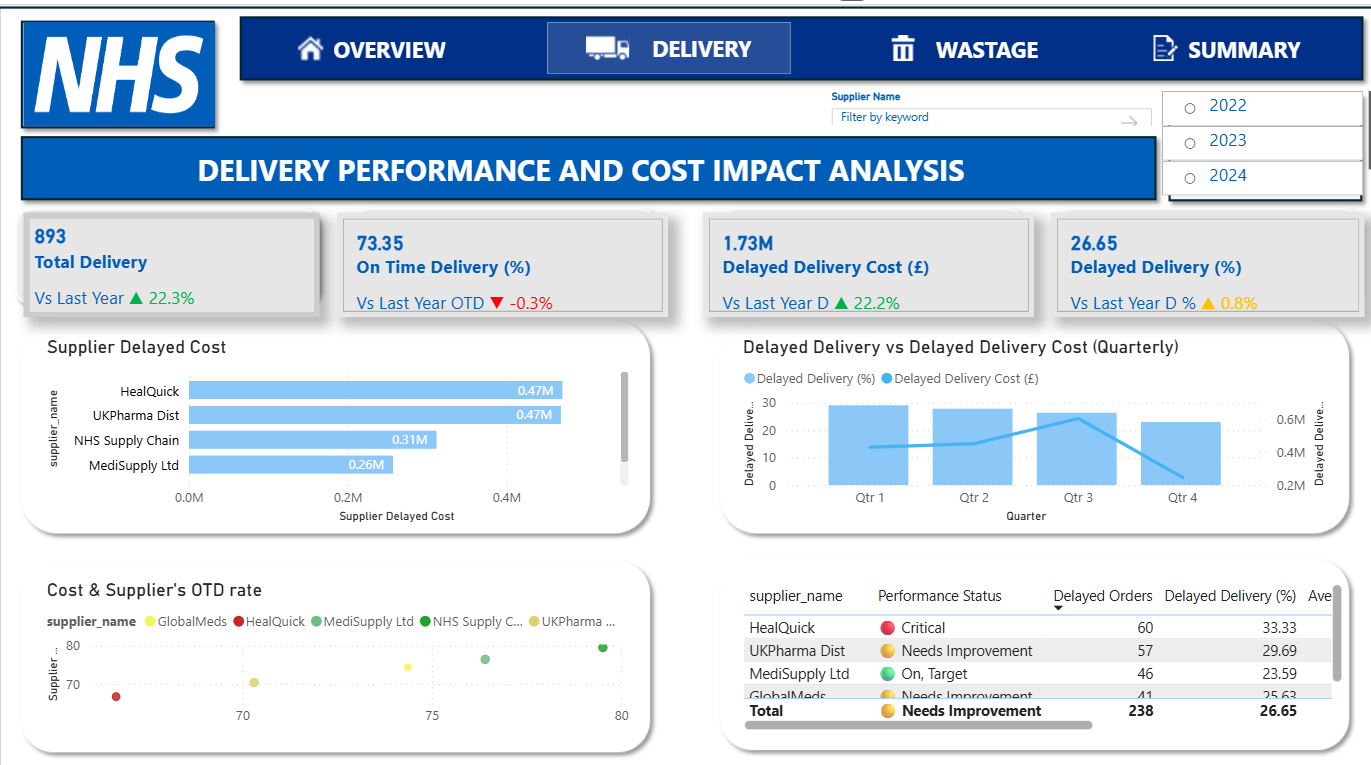

Layout of this report page (visuals, bound fields, positions):
{"tool":"powerbi","page":{"name":"Page 2","canvas":[1280,720],"ordinal":1},"visuals":[{"type":"clusteredBarChart","title":"Supplier Delayed Cost","fields":{"Category":["nhs_pharma_clean.supplier_name"],"Y":["nhs_pharma_clean.Supplier Delayed Cost"]},"box":[48,304,544,176],"z":0},{"type":"lineClusteredColumnComboChart","title":"Delayed Delivery vs Delayed Delivery Cost (Quarterly)","fields":{"Category":["nhs_pharma_clean.delivery_date.Variation.Date Hierarchy.Quarter"],"Y":["nhs_pharma_clean.Delayed Delivery %"],"Y2":["nhs_pharma_clean.Delayed Delivery Cost"]},"box":[688,304,544,176],"z":1000},{"type":"scatterChart","title":"Cost & Supplier''s OTD rate","fields":{"Y":["nhs_pharma_clean.Supplier OTD Rate"],"Size":["nhs_pharma_clean.Supplier Total Cost"],"Category":["nhs_pharma_clean.supplier_name"],"Series":["nhs_pharma_clean.supplier_name"],"X":["nhs_pharma_clean.Supplier OTD Rate"]},"box":[48,528,544,144],"z":2000},{"type":"tableEx","fields":{"Values":["nhs_pharma_clean.supplier_name","nhs_pharma_clean.Performance Status","nhs_pharma_clean.Delayed Orders","nhs_pharma_clean.Delayed Delivery %","Avg(nhs_pharma_clean.lead_time)","nhs_pharma_clean.Delayed Cost %","nhs_pharma_clean.Delayed Delivery Cost (£)"]},"box":[688,528,560,144],"z":3000},{"type":"cardVisual","fields":{"Data":["nhs_pharma_clean.Total Orders"]},"box":[32,192,272,96],"z":4000},{"type":"advancedSlicerVisual","fields":{"Values":["Date_Table.Year"]},"box":[1072,80,208,96],"z":5000},{"type":"textbox","box":[32,128,1024,48],"z":6000},{"type":"cardVisual","fields":{"Data":["_Measures2.On Time Delivery %"]},"box":[320,192,304,96],"z":7000},{"type":"cardVisual","fields":{"Data":["nhs_pharma_clean.Delayed Delivery Cost"]},"box":[656,192,304,96],"z":8000},{"type":"cardVisual","fields":{"Data":["nhs_pharma_clean.Delayed Delivery %"]},"box":[976,192,288,96],"z":9000},{"type":"textSlicer","title":"Supplier Name","fields":{"Values":["nhs_pharma_clean.supplier_name"]},"box":[768,80,304,32],"z":10000},{"type":"image","box":[32,16,176,96],"z":11000},{"type":"shape","box":[512,16,224,48],"z":12000},{"type":"actionButton","box":[272,16,160,48],"z":13000},{"type":"actionButton","box":[544,16,160,48],"z":15000},{"type":"actionButton","box":[816,16,160,48],"z":16000},{"type":"actionButton","box":[1056,16,160,48],"z":17000}]}

Visuals, with their boxes in screenshot pixels (x1, y1, x2, y2), scaled from the page's 1280x720 canvas onto the 1371x765 screenshot:
"Supplier Delayed Cost" clusteredBarChart: bbox=[51, 323, 634, 510]
"Delayed Delivery vs Delayed Delivery Cost (Quarterly)" lineClusteredColumnComboChart: bbox=[737, 323, 1320, 510]
"Cost & Supplier''s OTD rate" scatterChart: bbox=[51, 561, 634, 714]
tableEx - nhs_pharma_clean.supplier_name x nhs_pharma_clean.Performance Status: bbox=[737, 561, 1337, 714]
cardVisual - nhs_pharma_clean.Total Orders: bbox=[34, 204, 326, 306]
advancedSlicerVisual - Date_Table.Year: bbox=[1148, 85, 1370, 187]
textbox: bbox=[34, 136, 1131, 187]
cardVisual - _Measures2.On Time Delivery %: bbox=[343, 204, 668, 306]
cardVisual - nhs_pharma_clean.Delayed Delivery Cost: bbox=[703, 204, 1028, 306]
cardVisual - nhs_pharma_clean.Delayed Delivery %: bbox=[1045, 204, 1354, 306]
"Supplier Name" textSlicer: bbox=[823, 85, 1148, 119]
image: bbox=[34, 17, 223, 119]
shape: bbox=[548, 17, 788, 68]
actionButton: bbox=[291, 17, 463, 68]
actionButton: bbox=[583, 17, 754, 68]
actionButton: bbox=[874, 17, 1045, 68]
actionButton: bbox=[1131, 17, 1302, 68]
